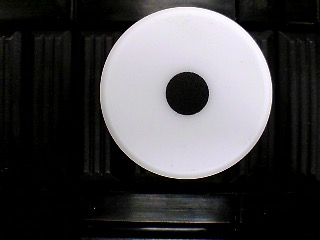BOHO: (99, 6, 273, 180)
